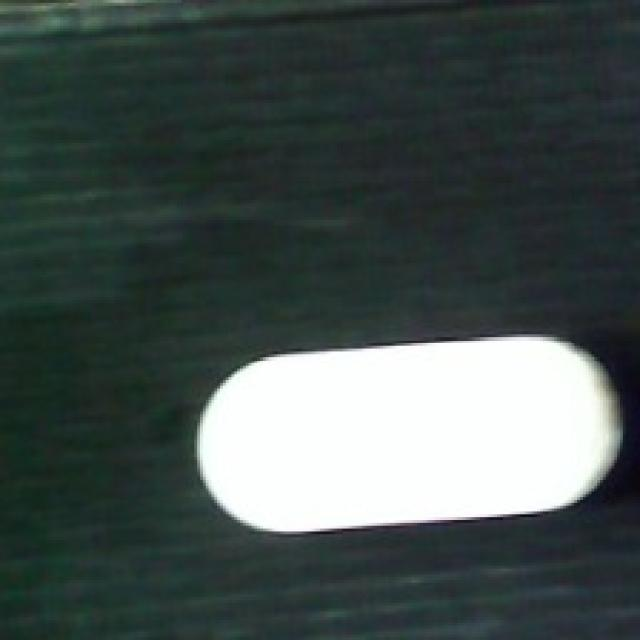no-defect: (188, 331, 626, 541)
